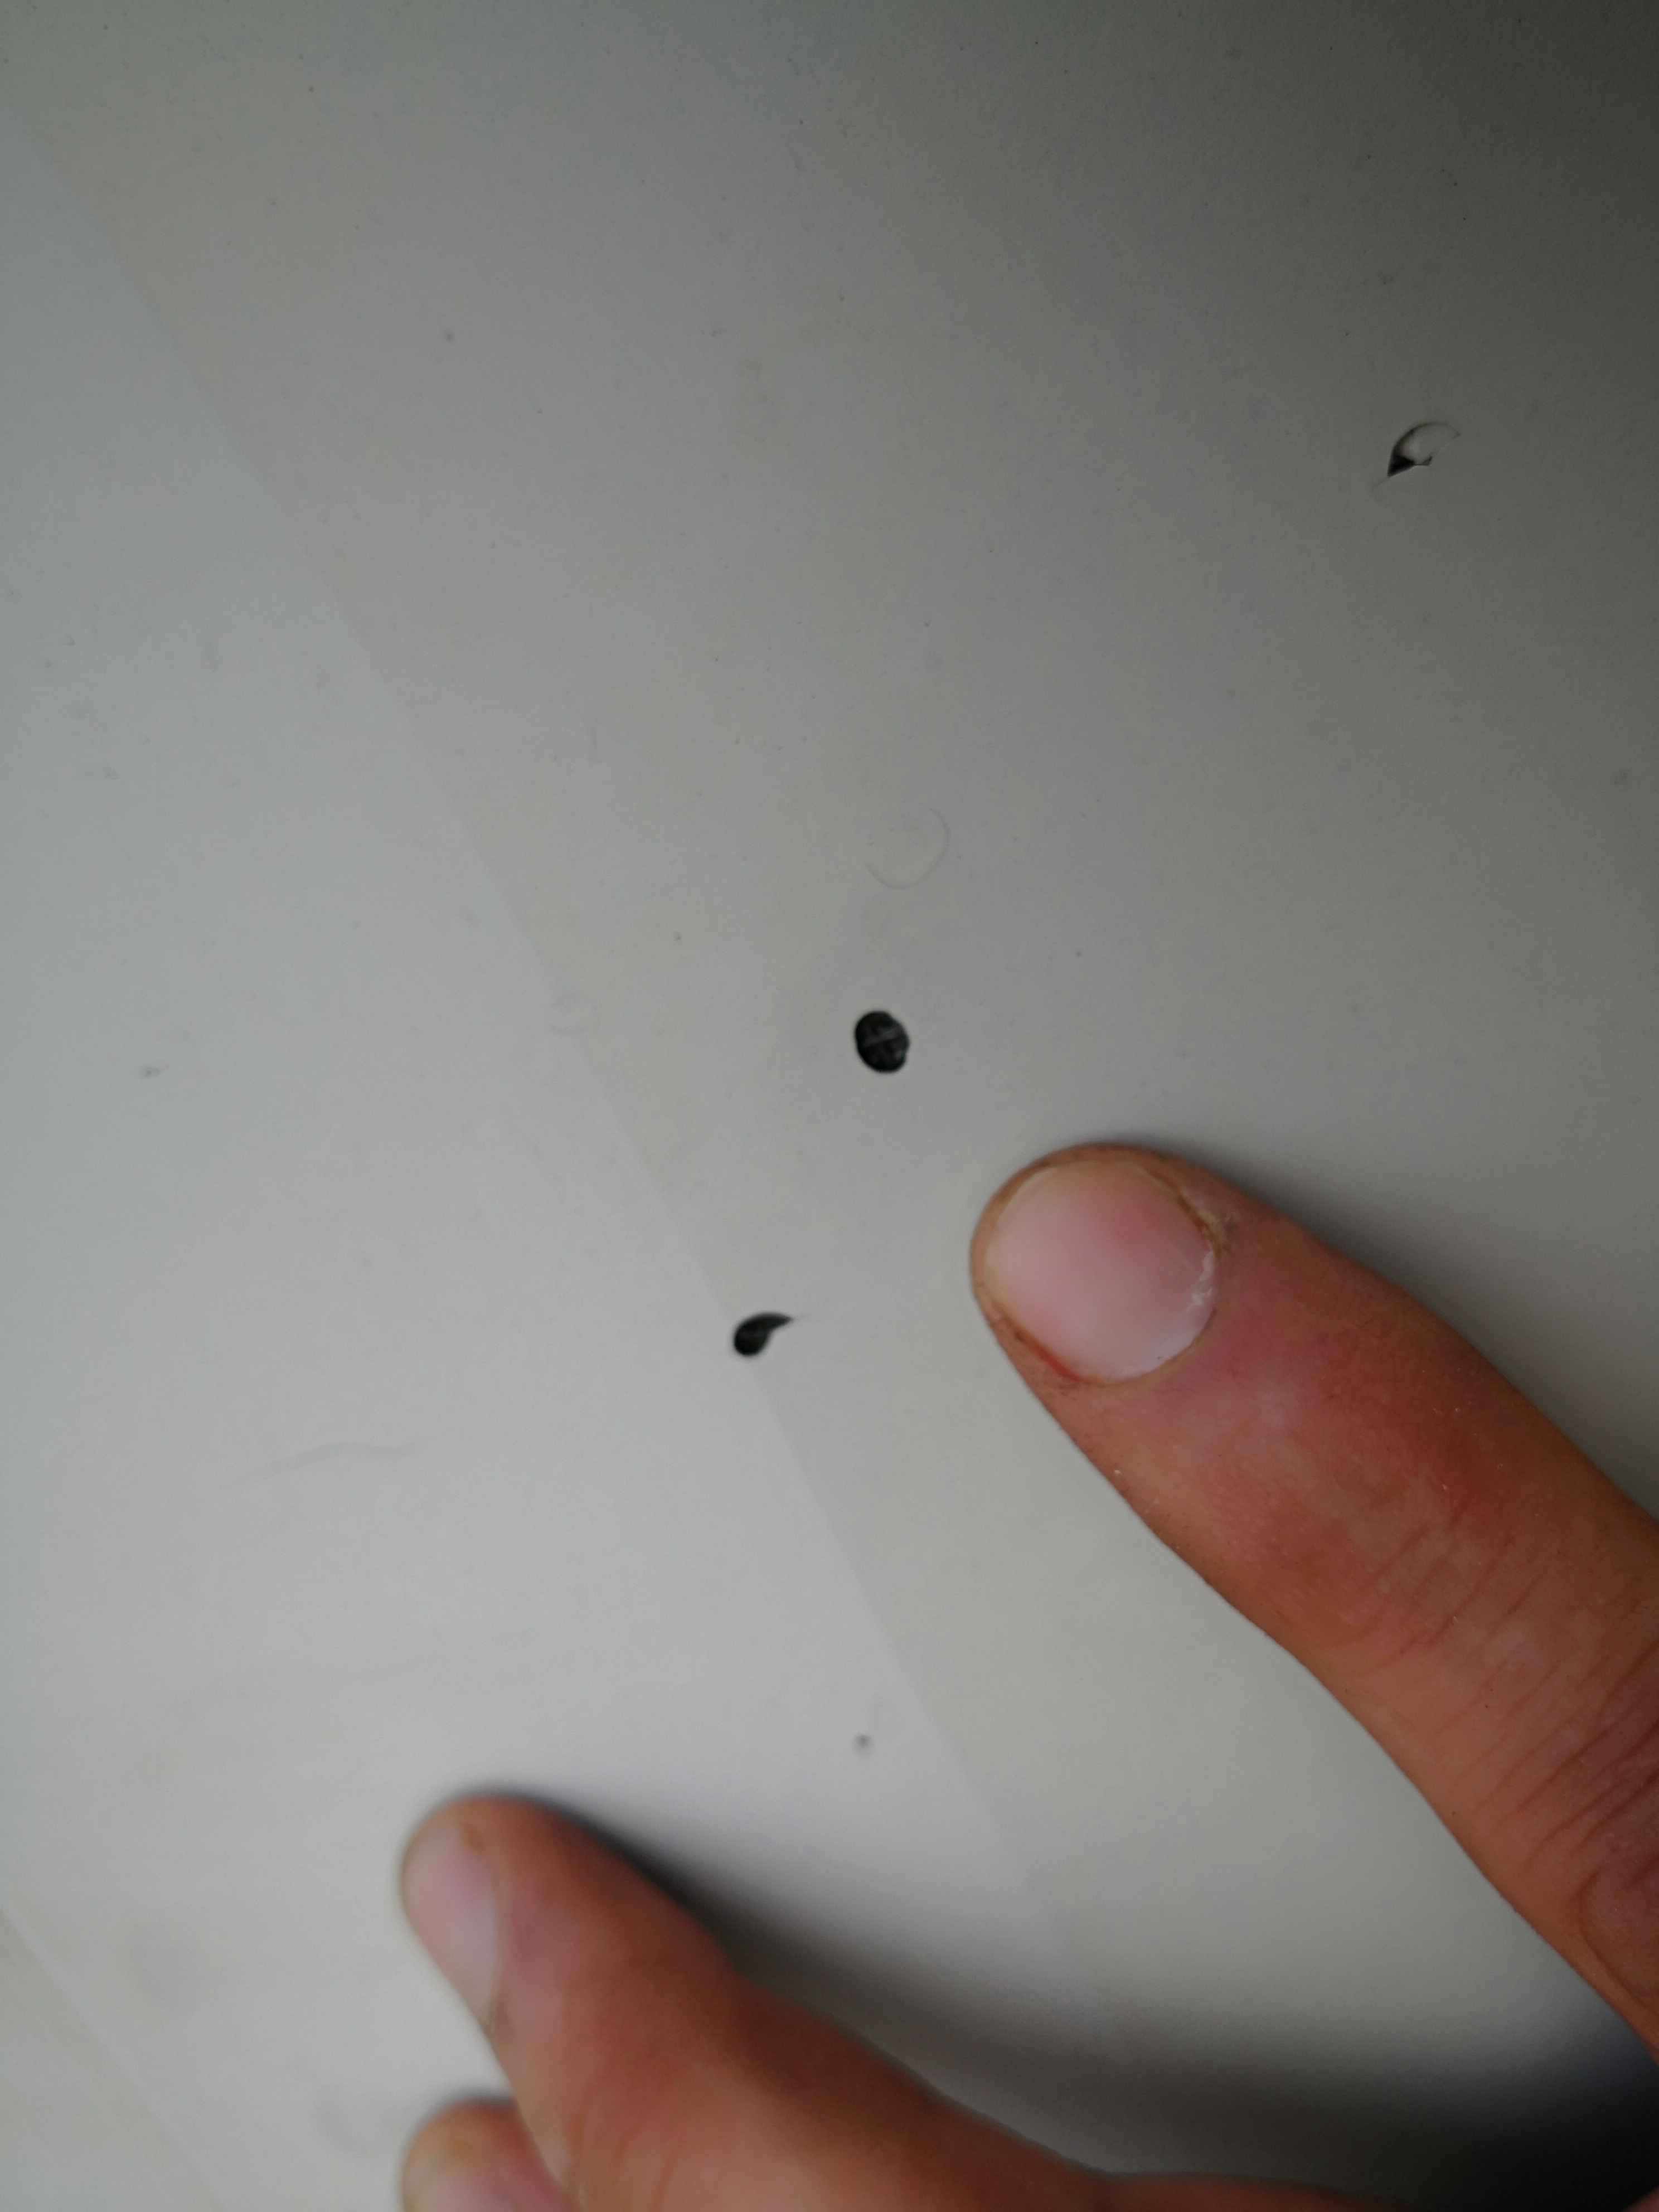SD: (786, 986, 931, 1106), (728, 1303, 789, 1367)
